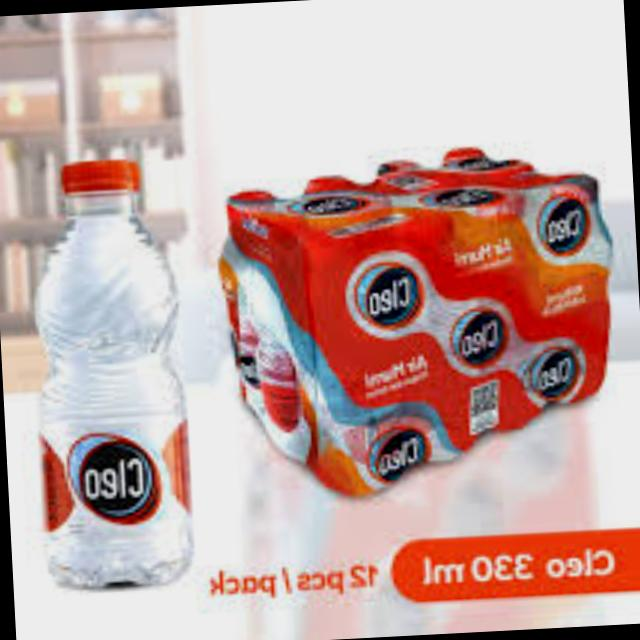trash: (19, 155, 200, 600)
